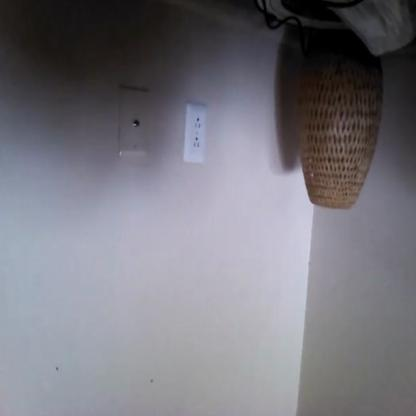OUTLET: (184, 105, 207, 162)
